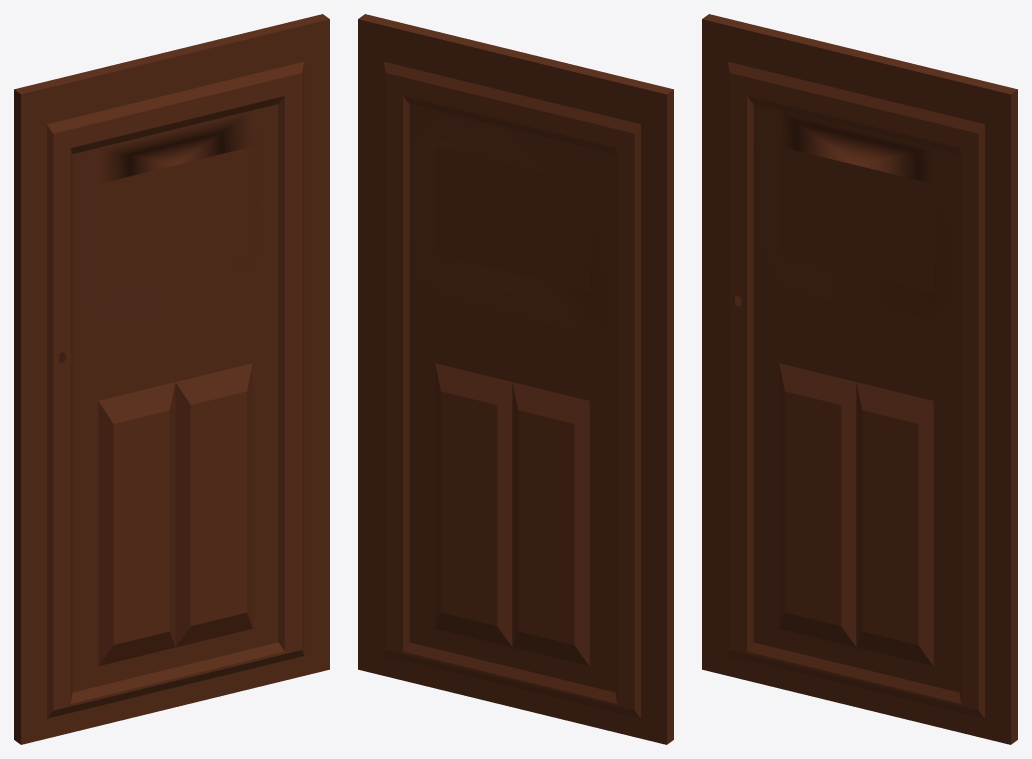
File: IntDoor.fbx
3 views of the same model, side by side, from view 1: azimuth 30°, elevation 25°; view 2: azimuth 150°, elevation 25°; view 3: azimuth 330°, elevation 25° (orthographic).
Visible parts, largest first — view 1: Door; view 2: Door; view 3: Door.
Part boxes in pixels (bbox=[...]): Door: bbox=[14, 14, 329, 744]; Door: bbox=[358, 14, 673, 744]; Door: bbox=[702, 14, 1017, 744].
Bounding box in the file's own units: 269 × 24.97 × 541.
